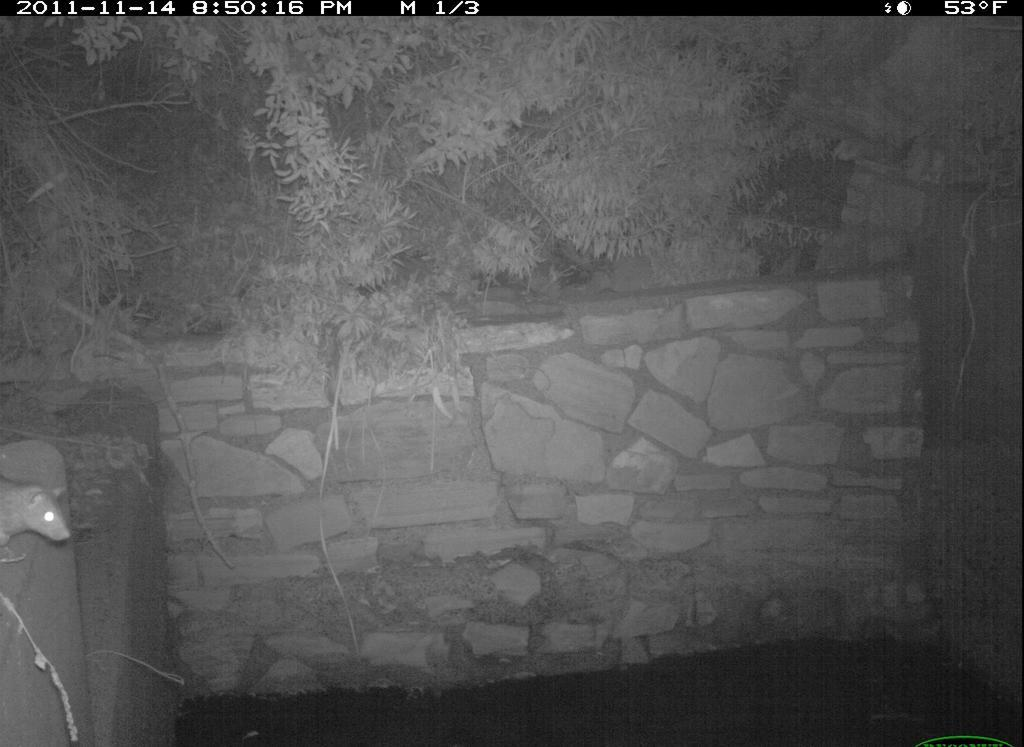rodent: (2, 464, 84, 577)
